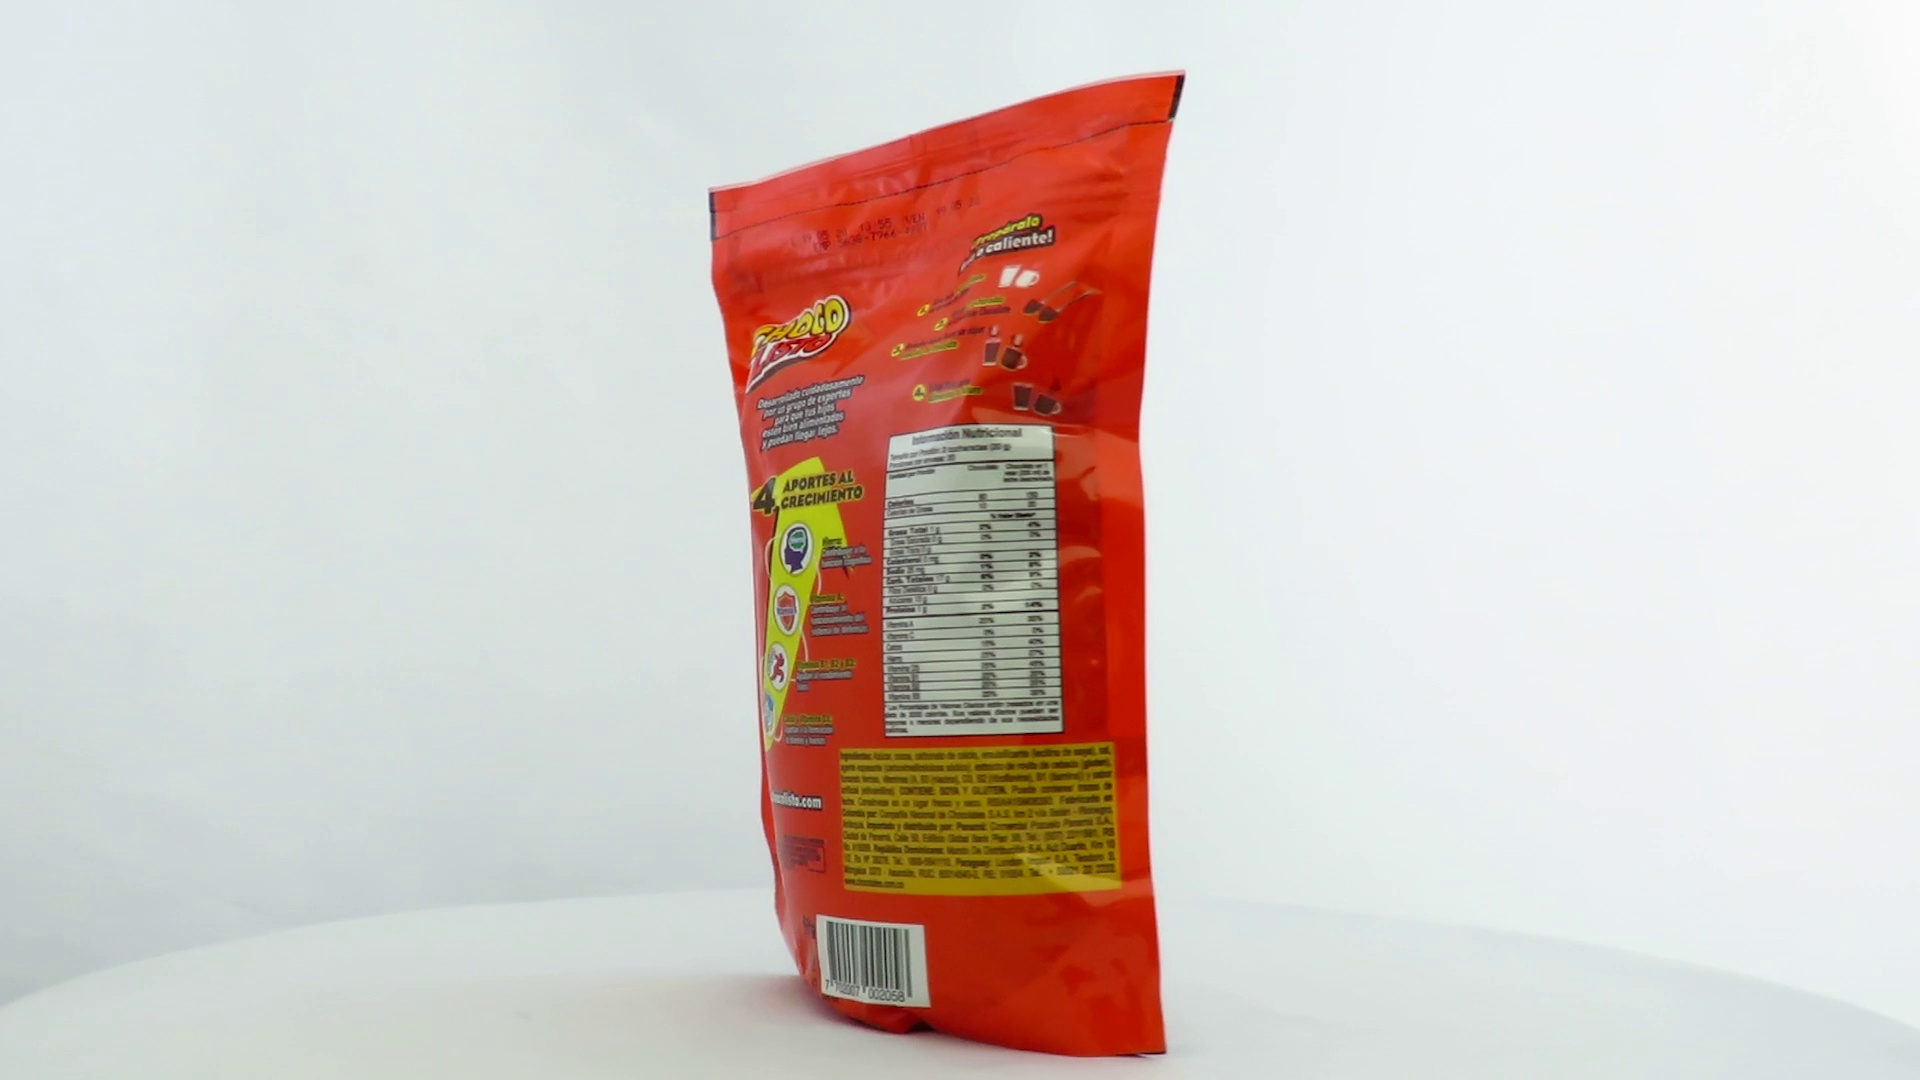COL0170103DYP40000: (703, 65, 1192, 1064)
